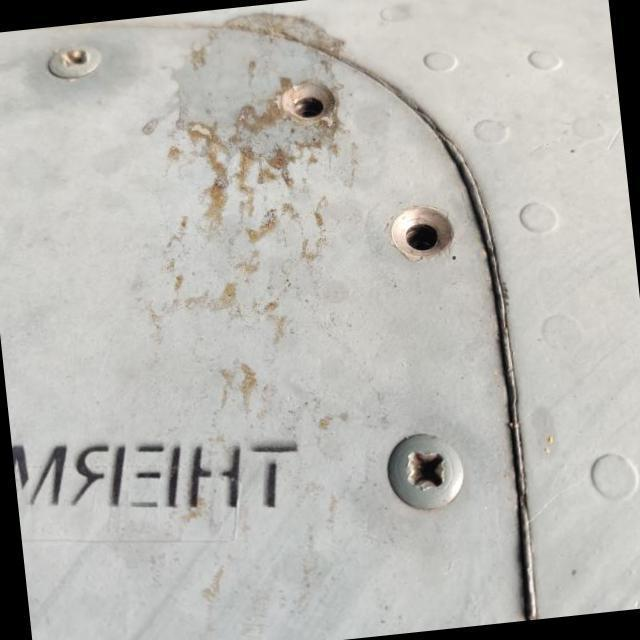Fastener Damage: (234, 36, 374, 168), (359, 169, 485, 291)
